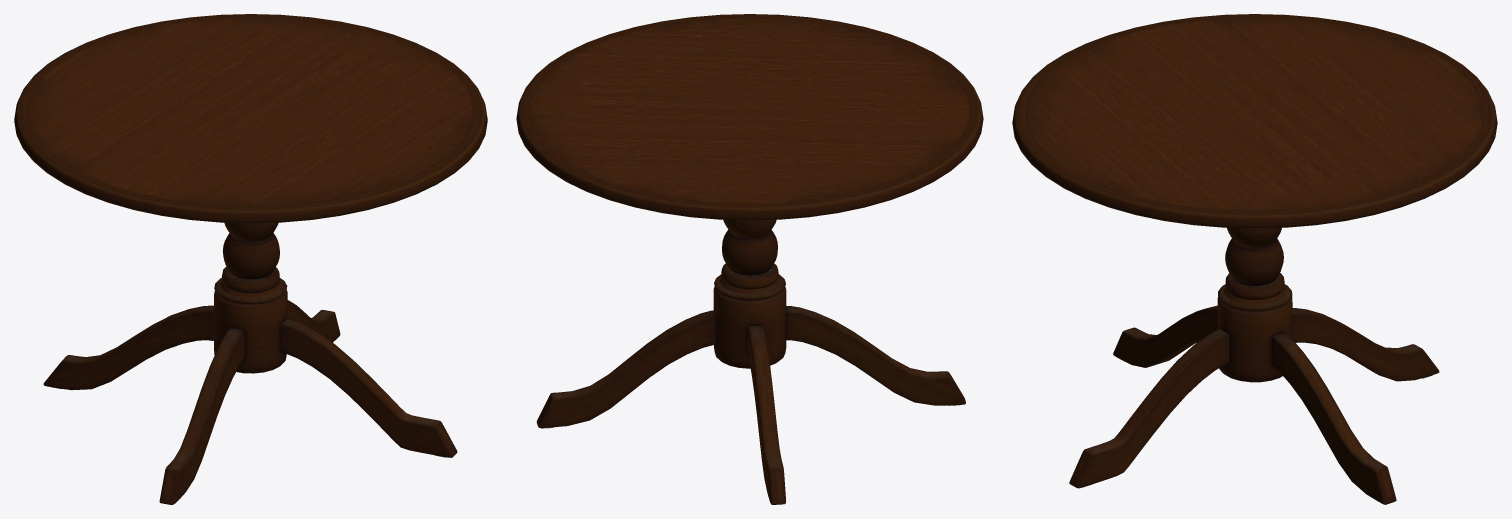
Rendered from round_wooden_table_01.glb.
The picture shows the model from 3 angles, left to right: view 1: azimuth 30°, elevation 25°; view 2: azimuth 150°, elevation 25°; view 3: azimuth 270°, elevation 25°; orthographic projection. The views are drawn at different scales.
Parts seen in each view (by area): view 1: round_wooden_table_01; view 2: round_wooden_table_01; view 3: round_wooden_table_01.
Part boxes in pixels (x1,y1,x2,y2): round_wooden_table_01: (14,14,487,504); round_wooden_table_01: (516,14,983,504); round_wooden_table_01: (1012,14,1497,504).
Bounding box in the file's own units: 1.4 × 1.01 × 1.4.
1 material, 1 textured.
